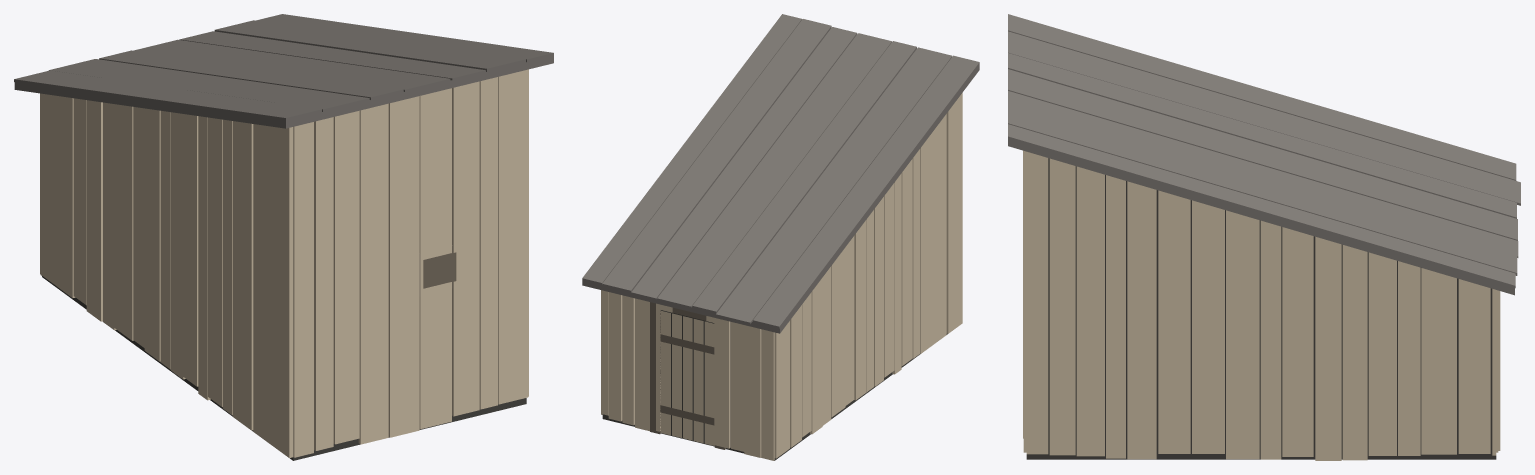
The model's file is recon_1835_blk_randolph_wells_a4_10__inferred_1835.glb.
3 views of the same model, side by side, from view 1: azimuth 30°, elevation 25°; view 2: azimuth 150°, elevation 25°; view 3: azimuth 270°, elevation 25° (orthographic). The views are drawn at different scales.
Visible parts, largest first — view 1: recon_1835_blk_randolph_wells_a4_10__inferred_1835; view 2: recon_1835_blk_randolph_wells_a4_10__inferred_1835; view 3: recon_1835_blk_randolph_wells_a4_10__inferred_1835.
Part boxes in pixels (bbox=[...]): recon_1835_blk_randolph_wells_a4_10__inferred_1835: bbox=[14, 14, 553, 460]; recon_1835_blk_randolph_wells_a4_10__inferred_1835: bbox=[582, 14, 979, 460]; recon_1835_blk_randolph_wells_a4_10__inferred_1835: bbox=[1008, 14, 1520, 460].
Bounding box in the file's own units: 3.12 × 3.94 × 5.53.
